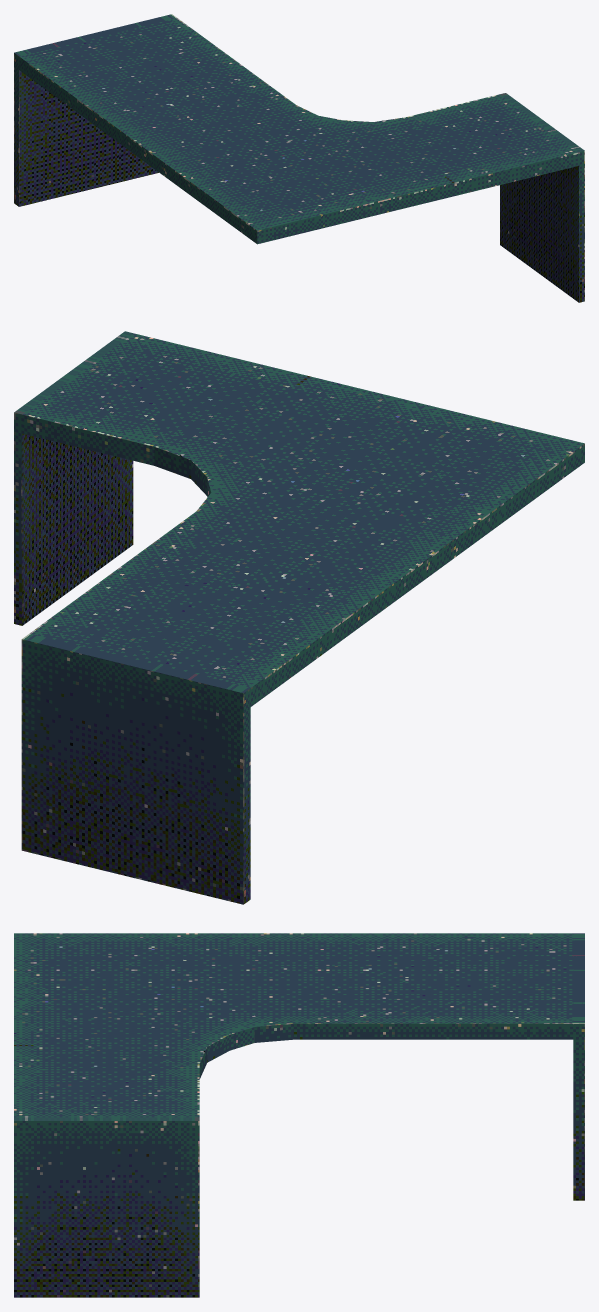
Rendered from Escritorio.fbx.
3 views of the same model, one above another, from view 1: azimuth 30°, elevation 25°; view 2: azimuth 150°, elevation 25°; view 3: azimuth 270°, elevation 25° (orthographic). The views are drawn at different scales.
Parts seen in each view (by area): view 1: Escritorio3; view 2: Escritorio3; view 3: Escritorio3.
Boxes of the visible parts, x1,y1,x2,y2 form: Escritorio3: (14,14,584,302); Escritorio3: (14,331,584,904); Escritorio3: (14,933,584,1297).
Bounding box in the file's own units: 7.75 × 3.4 × 9.96.
